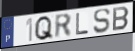1: (26, 16, 34, 43)
B: (111, 6, 130, 32)
L: (76, 12, 90, 36)
Q: (33, 15, 54, 42)
R: (54, 13, 73, 40)
S: (93, 8, 111, 35)
